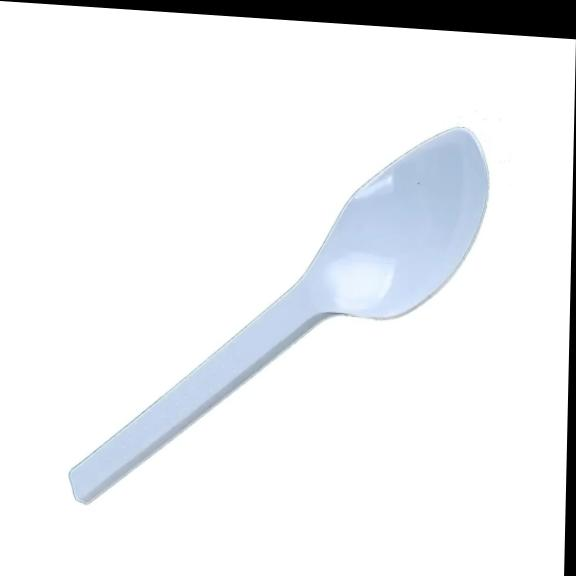Plastik: (70, 128, 488, 502)
